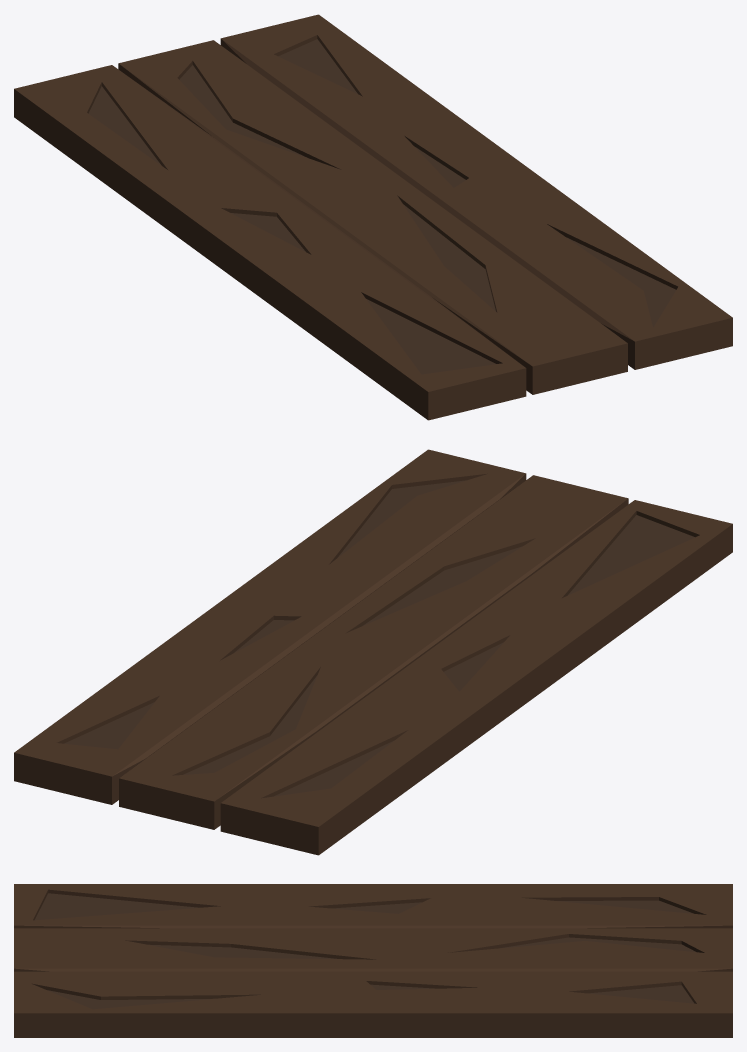
The model's file is planche forteresse 1.fbx.
The picture shows the model from 3 angles, top to bottom: view 1: azimuth 30°, elevation 25°; view 2: azimuth 150°, elevation 25°; view 3: azimuth 270°, elevation 25°; orthographic projection. The views are drawn at different scales.
Visible parts, largest first — view 1: Cube; view 2: Cube; view 3: Cube.
Part boxes in pixels (x1=…): Cube: x1=14, y1=14, x2=732, y2=420; Cube: x1=14, y1=449, x2=732, y2=855; Cube: x1=14, y1=884, x2=732, y2=1037.
Size of the model in its own units: 456 by 40.74 by 1075.
